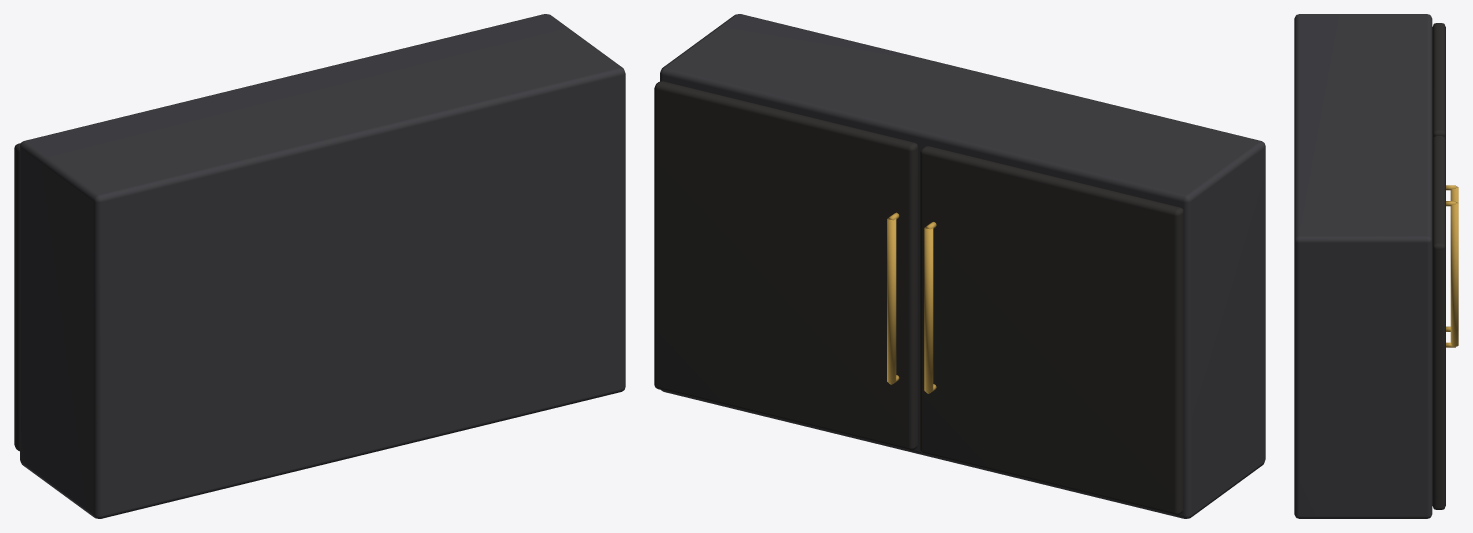
The model's file is upper_cabinet.glb.
3 views of the same model, side by side, from view 1: azimuth 30°, elevation 25°; view 2: azimuth 150°, elevation 25°; view 3: azimuth 270°, elevation 25° (orthographic). The views are drawn at different scales.
Parts seen in each view (by area): view 1: body; view 2: body; view 3: body.
Part boxes in pixels (<box>): body: <box>14,14,625,518</box>; body: <box>654,14,1265,518</box>; body: <box>1294,14,1458,518</box>.
Size of the model in its own units: 1.2 by 0.7 by 0.369.
